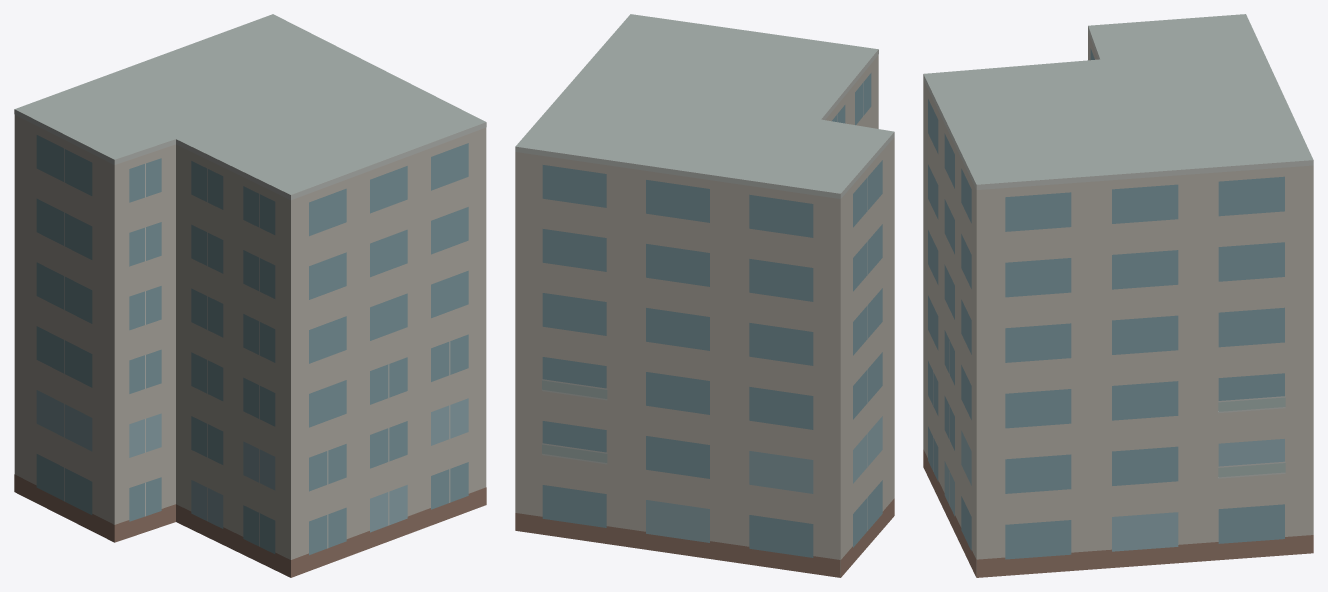
File: survey-upis-32575878.glb
3 views of the same model, side by side, from view 1: azimuth 30°, elevation 25°; view 2: azimuth 150°, elevation 25°; view 3: azimuth 270°, elevation 25° (orthographic). The views are drawn at different scales.
Visible parts, largest first — view 1: survey-upis-32575878.tmp; view 2: survey-upis-32575878.tmp; view 3: survey-upis-32575878.tmp.
Part boxes in pixels (x1,y1,x2,y2): survey-upis-32575878.tmp: (14, 14, 486, 577); survey-upis-32575878.tmp: (515, 14, 894, 577); survey-upis-32575878.tmp: (923, 14, 1313, 577).
Bounding box in the file's own units: 16.59 × 17.8 × 16.03.
